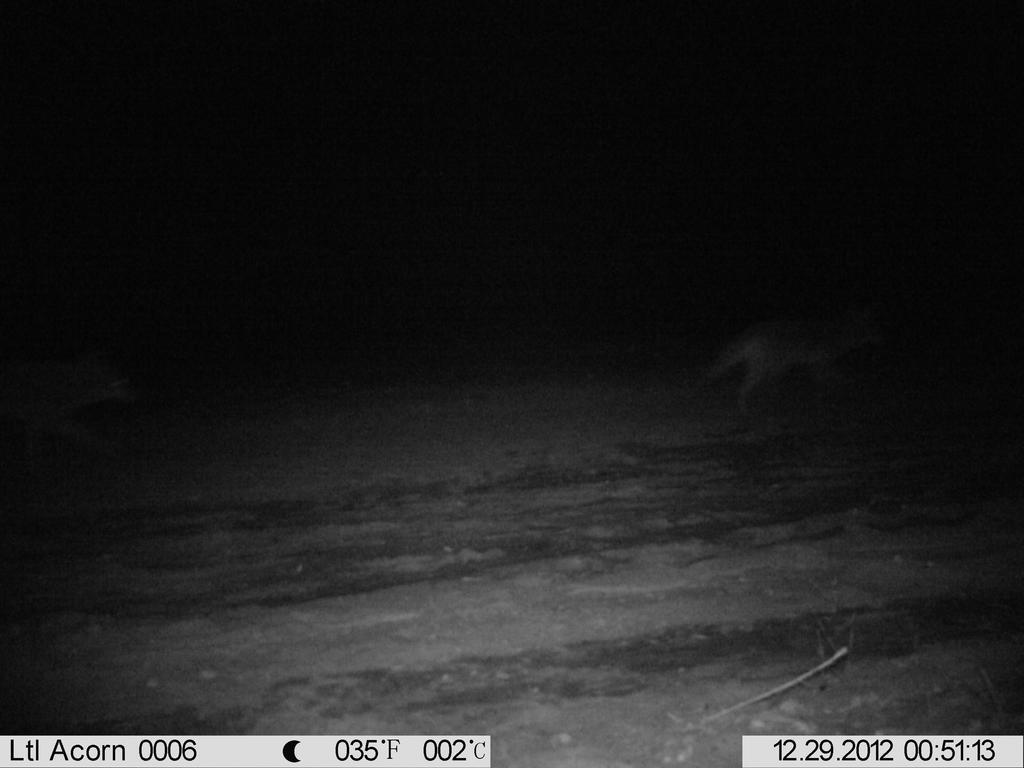coyote: (688, 297, 897, 431), (1, 339, 155, 472)
